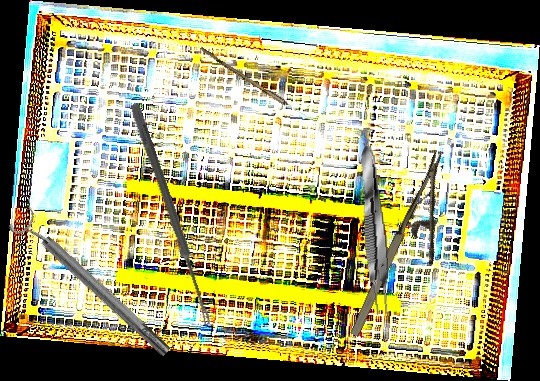Fixation Ring: (6, 203, 178, 366)
Needle Holder: (344, 149, 480, 352)
Surgical Spoon: (128, 102, 215, 327), (197, 46, 320, 126)
Tissue Forceps: (355, 144, 395, 316)
